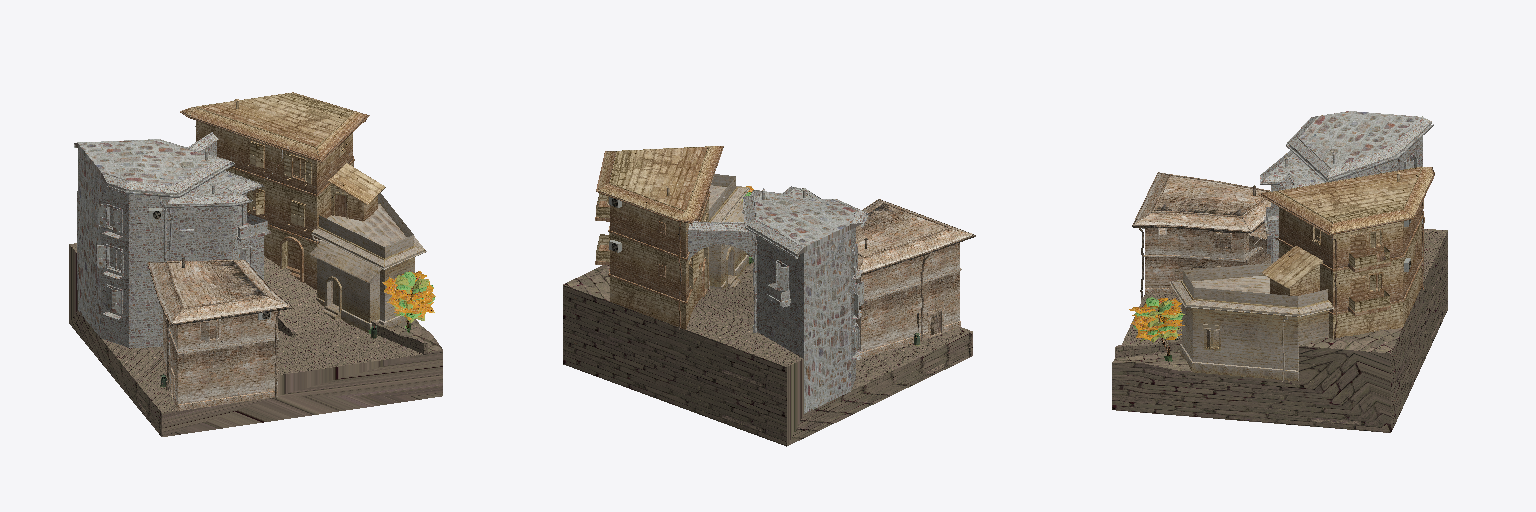
The picture shows the model from 3 angles: view 1: azimuth 30°, elevation 25°; view 2: azimuth 150°, elevation 25°; view 3: azimuth 270°, elevation 25°; orthographic projection.
Visible parts, largest first — view 1: double_house_Mesh.003, SM_Pedestal_Mesh, big_apt_house_Mesh.002, box_house_Mesh.001, tiny_entrance_Mesh.004; view 2: SM_Pedestal_Mesh, double_house_Mesh.003, big_apt_house_Mesh.002, box_house_Mesh.001, tiny_entrance_Mesh.004; view 3: SM_Pedestal_Mesh, big_apt_house_Mesh.002, tiny_entrance_Mesh.004, box_house_Mesh.001, double_house_Mesh.003.
Part boxes in pixels (x1,y1,x2,y2): double_house_Mesh.003: (74,126,282,354); SM_Pedestal_Mesh: (69,243,442,436); big_apt_house_Mesh.002: (180,92,385,289); box_house_Mesh.001: (148,245,292,410); tiny_entrance_Mesh.004: (310,193,426,332); SM_Pedestal_Mesh: (563,254,972,446); double_house_Mesh.003: (686,186,917,413); big_apt_house_Mesh.002: (595,146,723,329); box_house_Mesh.001: (856,199,975,358); tiny_entrance_Mesh.004: (709,174,749,289); SM_Pedestal_Mesh: (1112,229,1447,432); big_apt_house_Mesh.002: (1258,167,1434,339); tiny_entrance_Mesh.004: (1169,263,1334,381); box_house_Mesh.001: (1132,172,1270,300); double_house_Mesh.003: (1256,111,1433,262).
Size of the model in its own units: 30.42 by 20.21 by 29.53.
9 materials, 9 textured.